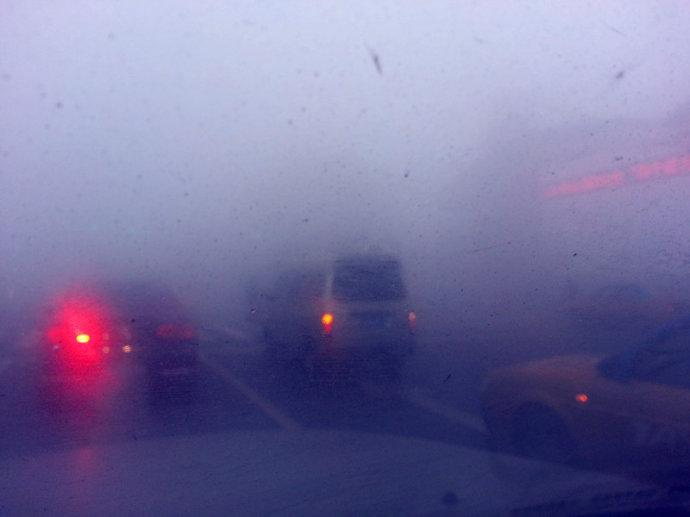car: (477, 313, 690, 489), (259, 250, 419, 383), (32, 277, 202, 396)
